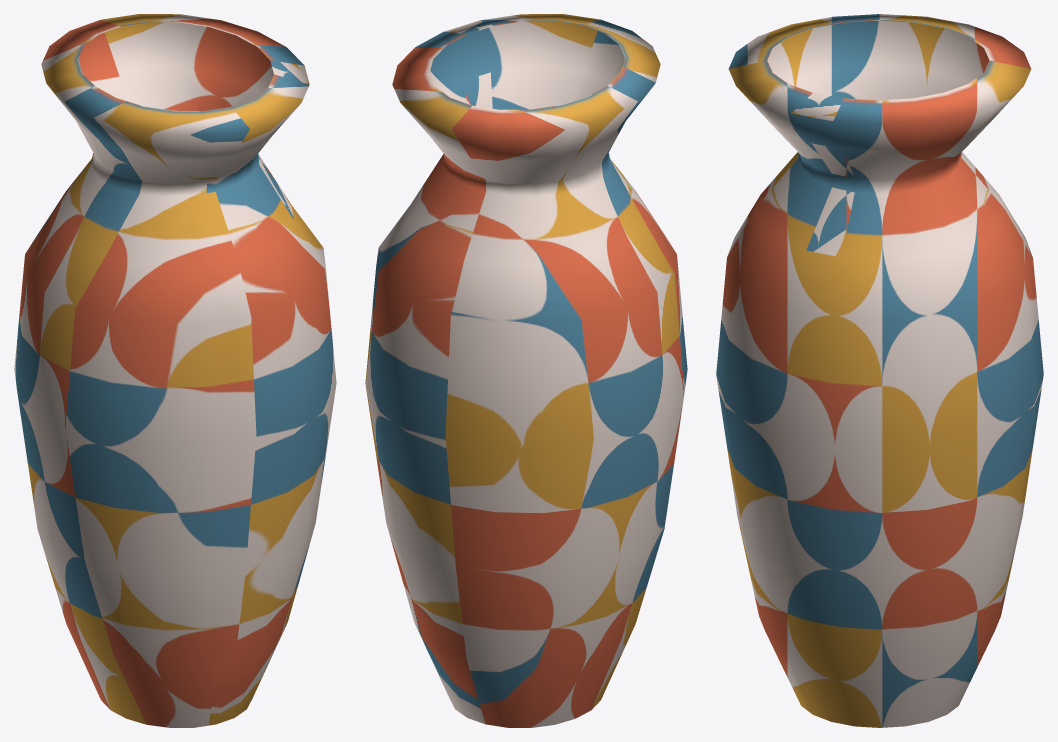
File: Vase.fbx
The picture shows the model from 3 angles, left to right: view 1: azimuth 30°, elevation 25°; view 2: azimuth 150°, elevation 25°; view 3: azimuth 270°, elevation 25°; orthographic projection.
Parts seen in each view (by area): view 1: pCylinder1; view 2: pCylinder1; view 3: pCylinder1.
Boxes of the visible parts, left/top/right/bottom form: pCylinder1: left=14, top=14, right=336, bottom=727; pCylinder1: left=365, top=14, right=687, bottom=727; pCylinder1: left=716, top=14, right=1043, bottom=727.
Size of the model in its own units: 1.71 by 3.65 by 1.71.
1 material, 1 textured.
